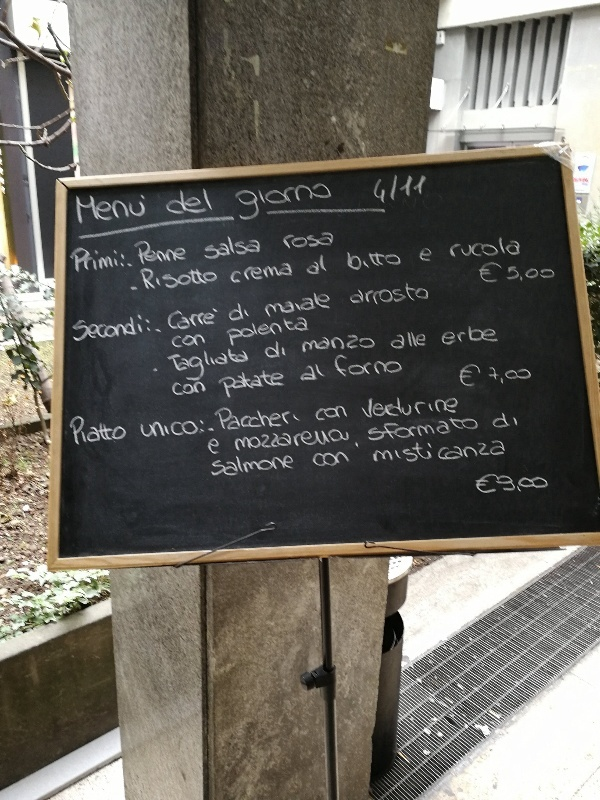text: (321, 178, 337, 225), (241, 178, 256, 225), (257, 178, 272, 225), (273, 178, 288, 225), (289, 178, 304, 225), (305, 178, 320, 225), (177, 342, 192, 389), (193, 342, 208, 389), (209, 342, 224, 389), (225, 342, 240, 389), (385, 430, 400, 473), (401, 430, 416, 473), (417, 430, 432, 473), (433, 430, 448, 473), (449, 430, 464, 473), (465, 430, 480, 473), (481, 430, 496, 473), (81, 190, 96, 232), (97, 190, 112, 232), (113, 190, 128, 232), (129, 190, 144, 232), (385, 170, 400, 212), (401, 170, 416, 212), (225, 399, 240, 441), (241, 399, 256, 441), (257, 399, 272, 441), (273, 399, 288, 441), (177, 184, 192, 225), (193, 184, 208, 225), (81, 309, 96, 350), (97, 309, 112, 350), (113, 309, 128, 350), (129, 309, 144, 350), (81, 239, 96, 279), (97, 239, 112, 279), (370, 170, 384, 212), (417, 170, 431, 212), (353, 242, 368, 280), (369, 242, 384, 280), (385, 242, 400, 280), (225, 448, 240, 486), (241, 448, 256, 486), (257, 448, 272, 486), (273, 448, 288, 486), (113, 239, 127, 279), (369, 414, 384, 451), (385, 414, 400, 451), (401, 414, 416, 451), (417, 414, 432, 451), (433, 414, 448, 451), (449, 414, 464, 451), (465, 414, 480, 451), (289, 399, 302, 441), (481, 259, 496, 295), (497, 259, 512, 295), (513, 259, 528, 295), (529, 259, 544, 295), (81, 415, 96, 451), (97, 415, 112, 451), (113, 415, 128, 451), (369, 391, 384, 427), (385, 391, 400, 427), (401, 391, 416, 427), (417, 391, 432, 427), (433, 391, 448, 427), (210, 448, 224, 486), (241, 259, 256, 294), (257, 259, 272, 294), (273, 259, 288, 294), (273, 289, 288, 324), (289, 289, 304, 324), (305, 289, 320, 324), (241, 315, 256, 350), (257, 315, 272, 350), (273, 315, 288, 350), (289, 315, 304, 350), (449, 235, 464, 270), (465, 235, 480, 270), (481, 235, 496, 270), (497, 235, 512, 270), (497, 430, 509, 473), (321, 225, 337, 257), (145, 237, 160, 271), (161, 237, 176, 271), (145, 265, 160, 299), (161, 265, 176, 299), (177, 265, 192, 299), (193, 265, 208, 299), (209, 232, 224, 266), (225, 232, 240, 266), (241, 232, 256, 266), (241, 423, 256, 457), (257, 423, 272, 457), (273, 423, 288, 457), (289, 423, 304, 457), (305, 423, 320, 457), (321, 423, 336, 457), (545, 259, 559, 295), (177, 303, 192, 336), (193, 303, 208, 336), (225, 368, 240, 401), (241, 368, 256, 401), (257, 368, 272, 401), (164, 184, 176, 225), (226, 315, 240, 350), (289, 225, 304, 257), (305, 225, 320, 257), (353, 281, 368, 313), (369, 281, 384, 313), (385, 281, 400, 313), (401, 281, 416, 313), (465, 360, 480, 392), (481, 360, 496, 392), (497, 360, 512, 392), (513, 360, 528, 392), (481, 468, 496, 500), (497, 468, 512, 500), (513, 468, 528, 500), (529, 468, 544, 500), (337, 353, 352, 385), (353, 353, 368, 385), (369, 353, 384, 385), (385, 353, 400, 385), (337, 423, 351, 457), (373, 430, 384, 473), (166, 342, 176, 389), (241, 342, 251, 389), (273, 368, 287, 401), (213, 399, 224, 441), (305, 330, 320, 360), (321, 330, 336, 360), (337, 330, 352, 360), (353, 330, 368, 360), (145, 414, 160, 444), (161, 414, 176, 444), (177, 414, 192, 444), (401, 326, 416, 355), (449, 323, 464, 352), (465, 323, 480, 352), (481, 323, 496, 352), (305, 360, 320, 389), (306, 252, 320, 283), (449, 391, 461, 427), (228, 259, 240, 294), (193, 414, 207, 444), (321, 446, 336, 474), (337, 446, 352, 474), (227, 298, 240, 330), (417, 281, 430, 313), (273, 338, 288, 365), (70, 239, 80, 279), (69, 415, 80, 451), (177, 329, 192, 355), (261, 289, 272, 324), (321, 289, 332, 324), (321, 402, 336, 427), (133, 237, 144, 271), (177, 237, 188, 271), (209, 265, 220, 299), (71, 309, 80, 350), (193, 329, 207, 355), (337, 402, 351, 427), (497, 410, 512, 433), (166, 303, 176, 336), (209, 303, 219, 336), (177, 379, 192, 401), (145, 309, 153, 350), (419, 244, 432, 269), (241, 298, 251, 330), (389, 326, 400, 355), (513, 235, 522, 270), (193, 379, 207, 401), (309, 446, 320, 474), (344, 242, 352, 280), (289, 448, 297, 486), (417, 326, 427, 355), (360, 391, 368, 427), (234, 178, 240, 225), (209, 435, 221, 458), (136, 265, 144, 299), (369, 330, 378, 360), (321, 252, 329, 283), (209, 184, 215, 225), (289, 259, 296, 294), (263, 338, 272, 365), (217, 368, 224, 401), (145, 190, 150, 232), (257, 232, 263, 266), (234, 423, 240, 457), (282, 225, 288, 257), (169, 329, 176, 355), (305, 315, 310, 350), (442, 323, 448, 352), (203, 232, 208, 266), (76, 190, 80, 232), (529, 360, 534, 392), (545, 468, 550, 500), (321, 360, 326, 389), (513, 410, 519, 433), (348, 281, 352, 313), (460, 360, 464, 392), (476, 468, 480, 500), (332, 353, 336, 385), (315, 402, 320, 427), (300, 330, 304, 360), (140, 414, 144, 444), (497, 323, 501, 352), (300, 360, 304, 389), (171, 379, 176, 401), (477, 259, 480, 295), (492, 410, 496, 433), (401, 242, 403, 280), (446, 235, 448, 270), (401, 353, 403, 385), (433, 244, 435, 269), (367, 414, 368, 451), (481, 414, 482, 451), (129, 415, 130, 451), (207, 435, 208, 458)
